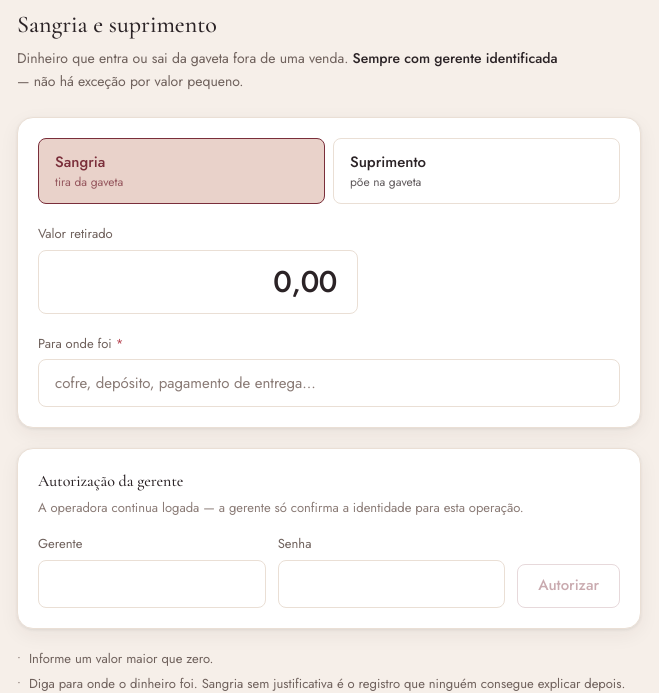
Test: TelaMovimentoCaixa — o saldo só aparece para a gerente › suprimento soma em vez de subtrair
This screenshot has width=659, height=693.
Type "bia" into the field labelled "Gerente" at (152, 584), box [38,560,266,608]
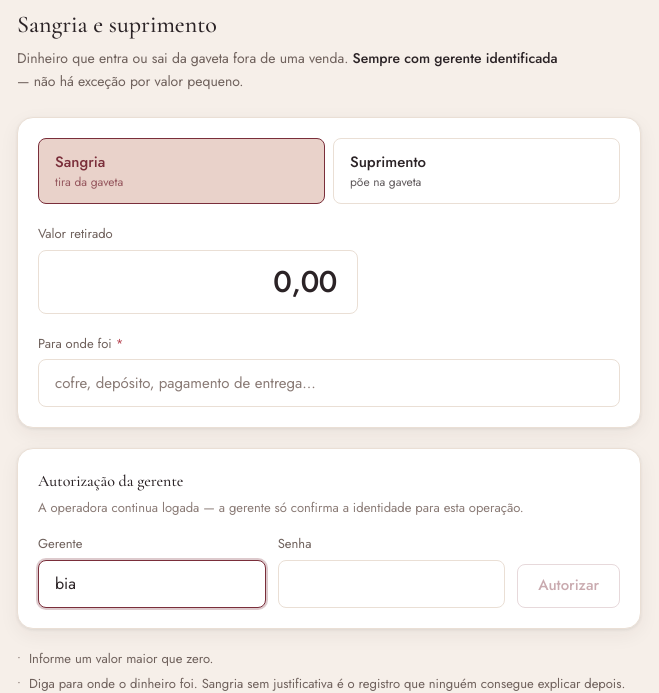
Type "gerente123" into the password field labelled "Senha" at (392, 584), box [278,560,505,608]
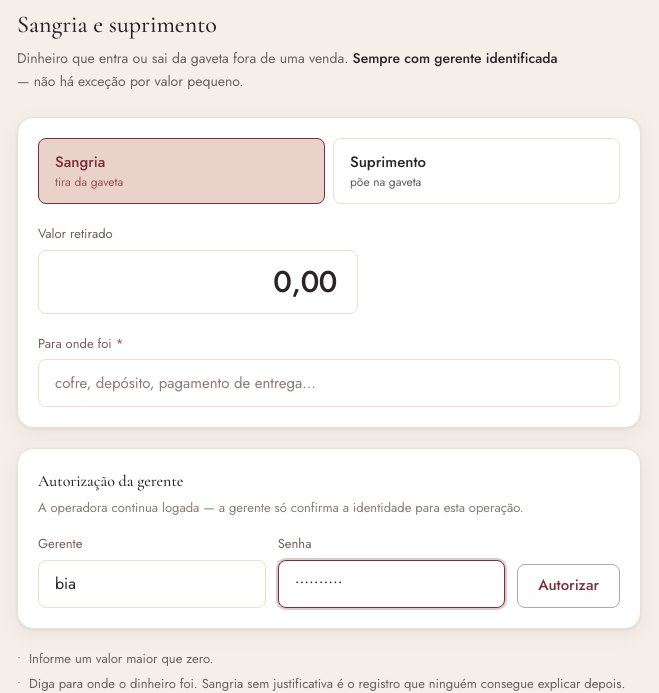
Click the button "Autorizar" at (569, 586), box [517,564,620,608]
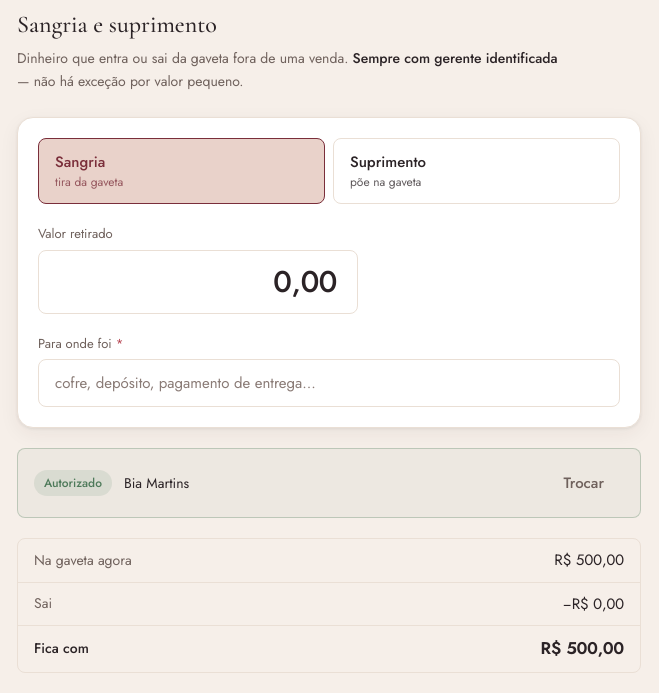
Check: the text "Autorizado" is shown, box [34,470,112,496]
Click the button "Suprimento põe na gaveta" at (388, 162), box [333,138,620,204]
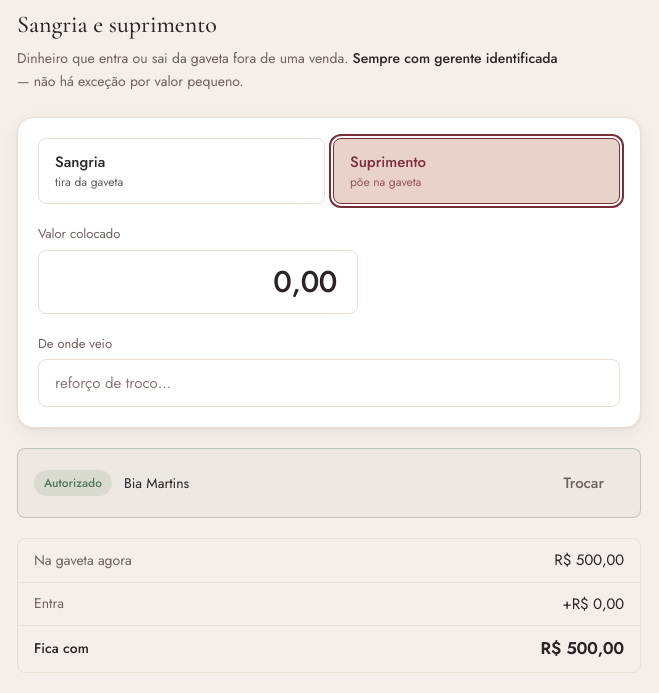
Click the field labelled "Valor colocado" at (198, 282), box [38,250,358,314]
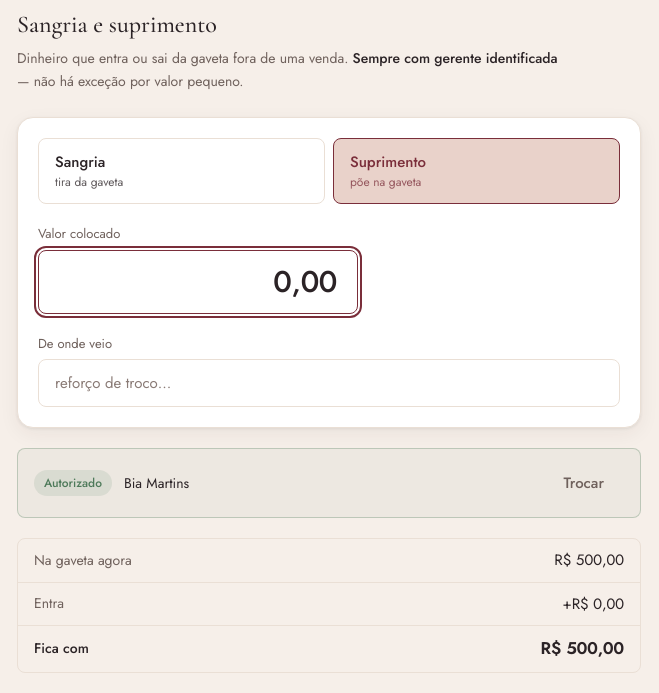
Type keys "10000"
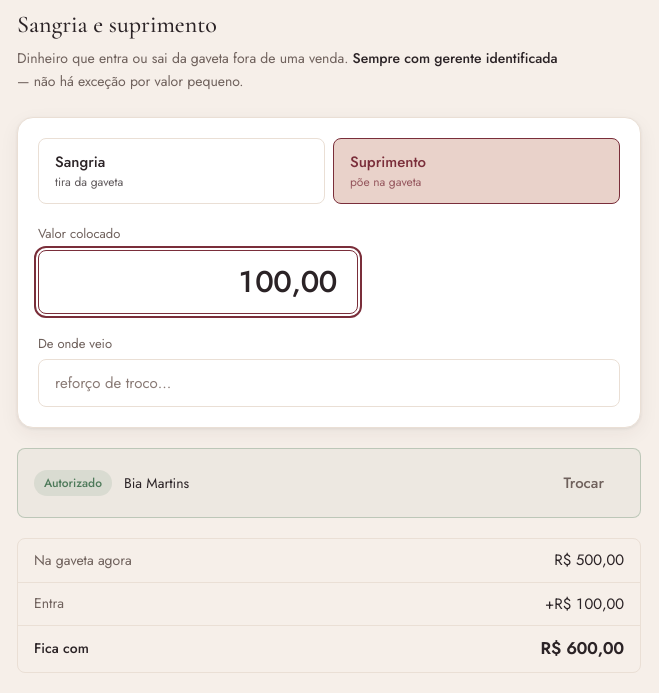
Check: the element with test id "efeito-no-caixa" shows "R$ 600,00", box [540,636,624,660]
